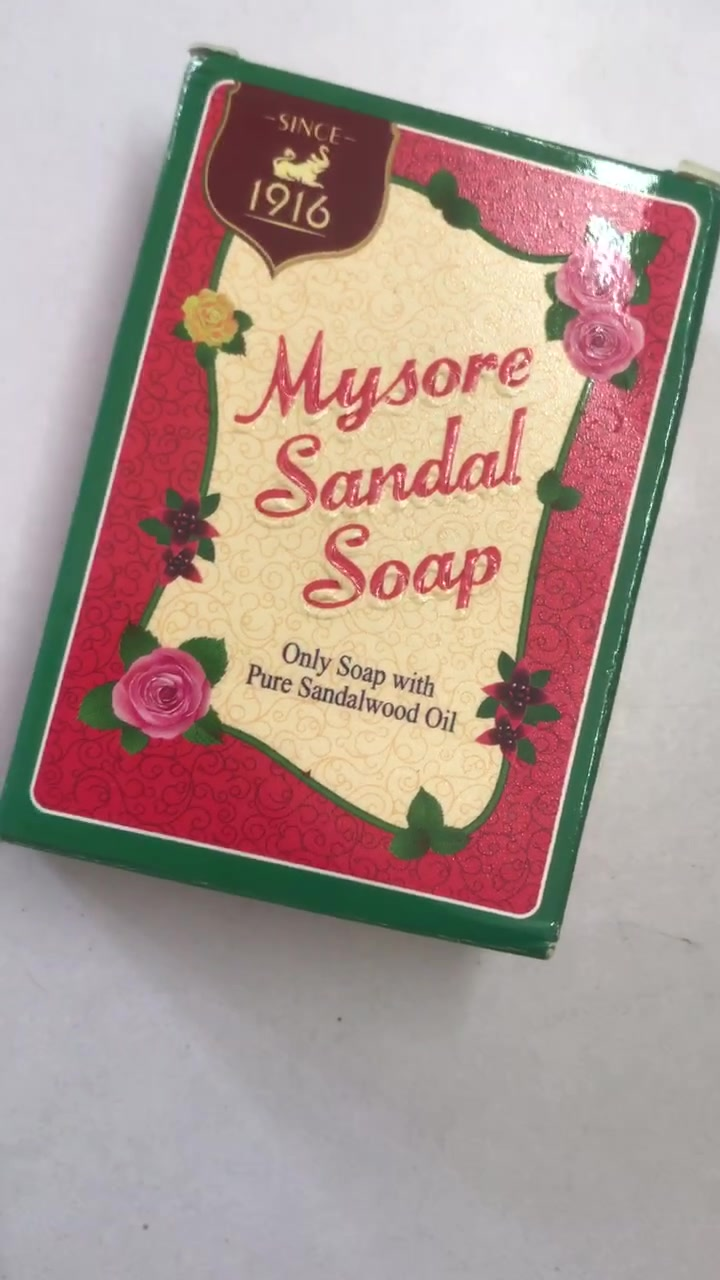mysore sandal soap: (6, 56, 720, 942)
